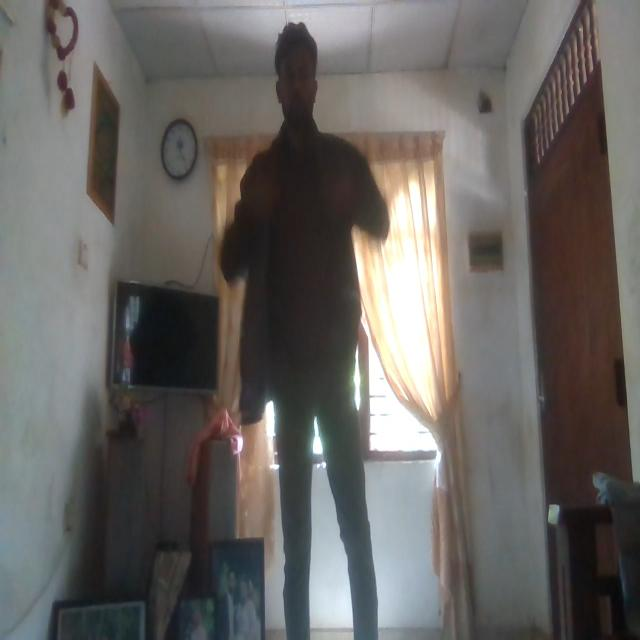Jacket_Wearer: (208, 144, 398, 405)
Person: (238, 18, 380, 640)
